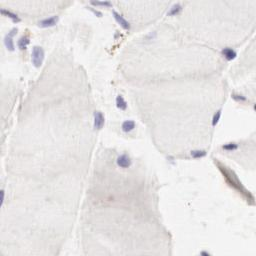nucleus: (112, 10, 131, 31), (3, 28, 18, 51), (32, 45, 45, 69), (37, 15, 59, 29), (92, 111, 106, 132), (1, 10, 21, 22), (117, 152, 132, 167), (115, 95, 128, 111), (221, 47, 237, 60), (167, 4, 183, 16), (18, 37, 31, 50), (122, 119, 136, 131), (190, 150, 208, 159), (90, 1, 113, 8), (212, 109, 222, 125), (86, 7, 102, 17), (221, 144, 238, 151), (233, 93, 246, 102), (200, 250, 212, 256), (1, 189, 5, 205), (114, 29, 119, 39), (253, 103, 256, 111)
positive_cell: (19, 29, 33, 60)
